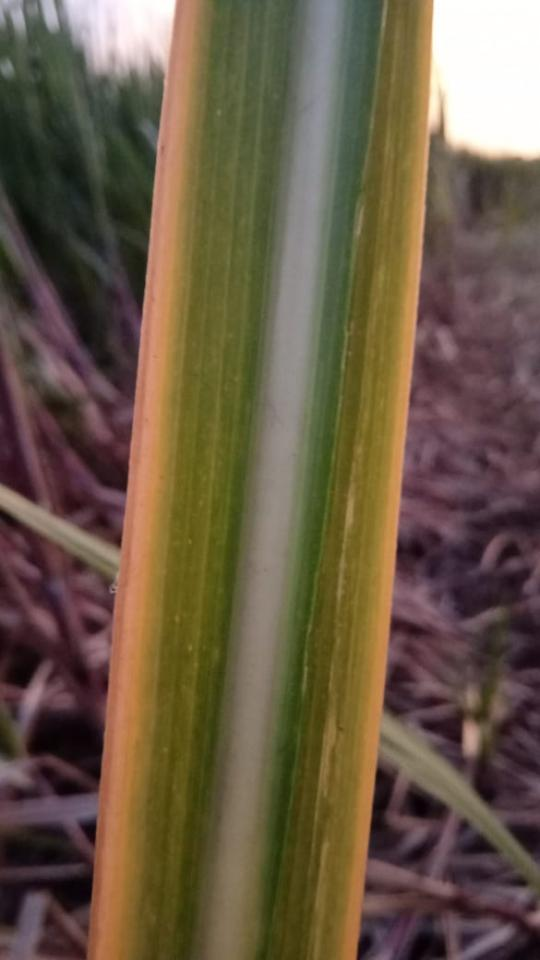Yellow: (263, 0, 432, 959), (88, 0, 217, 959)
